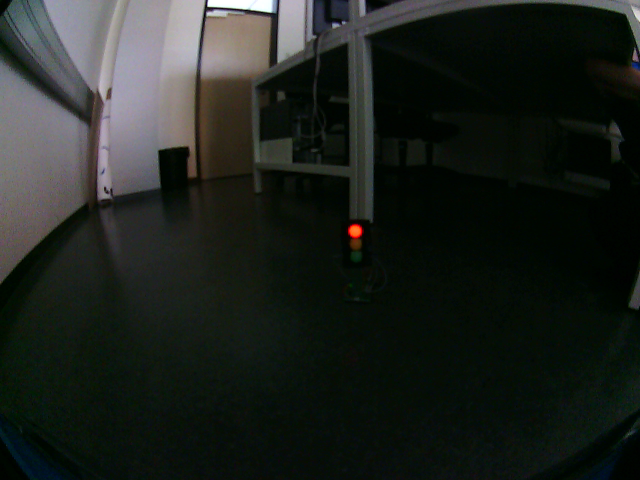red trafficlight: (346, 222, 365, 268)
